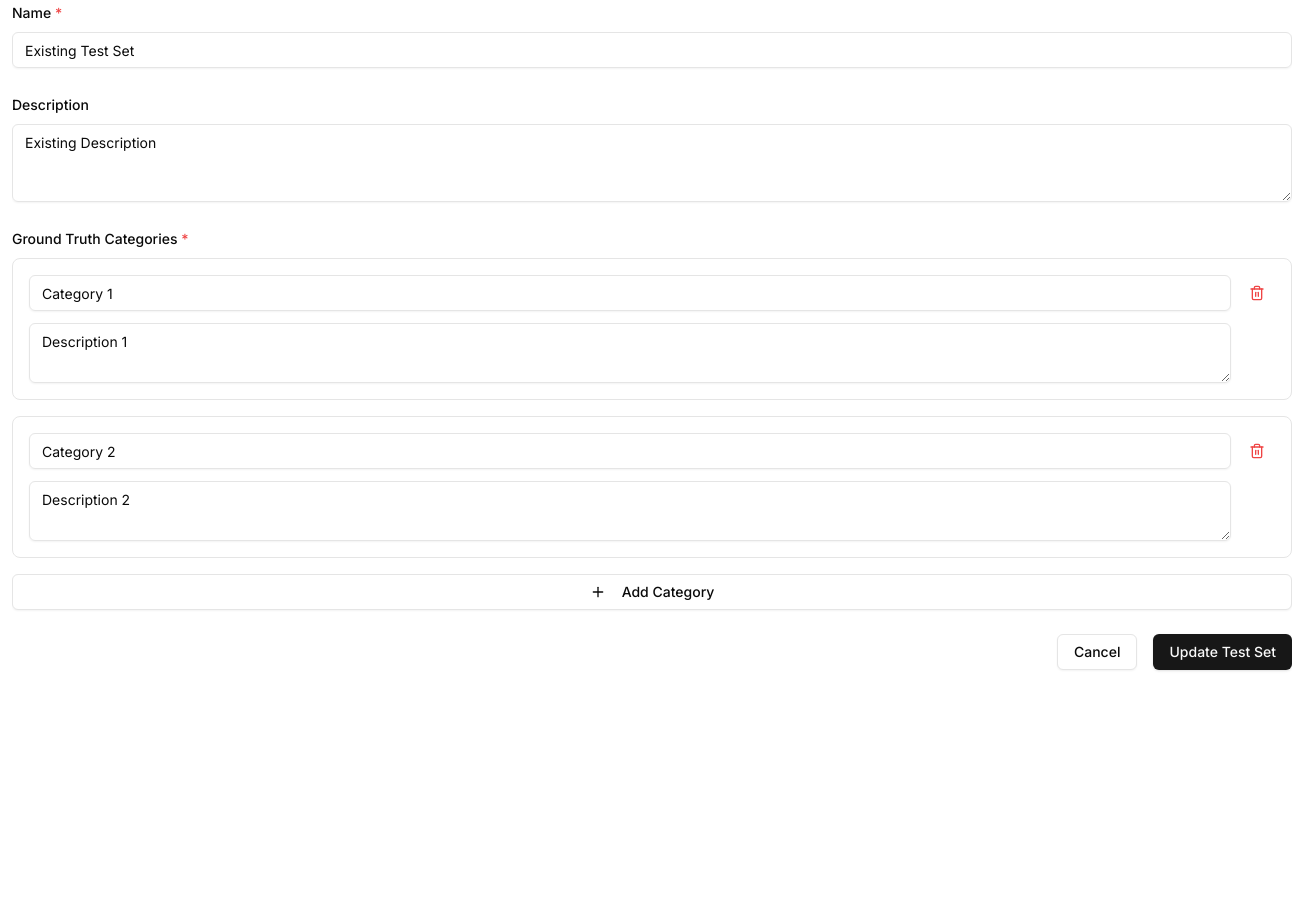
Test: TestSetForm - Edit Mode › validates form on submission in edit mode
The image size is (1304, 900).
Clear the field with placeholder "Enter test set name": (652, 50) [12, 32, 1292, 68]
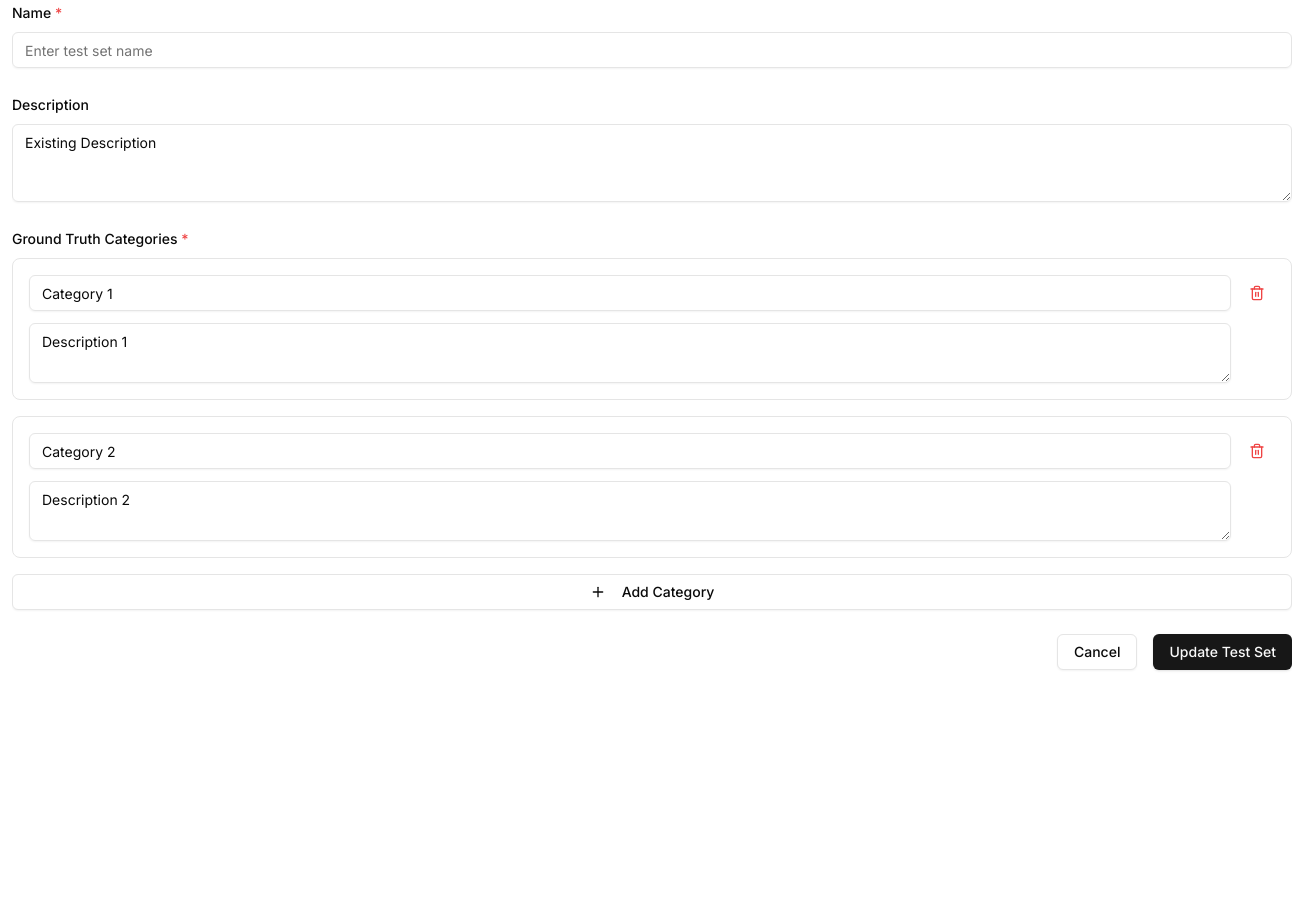
Click the button "Update Test Set": (1223, 652) [1154, 634, 1292, 670]
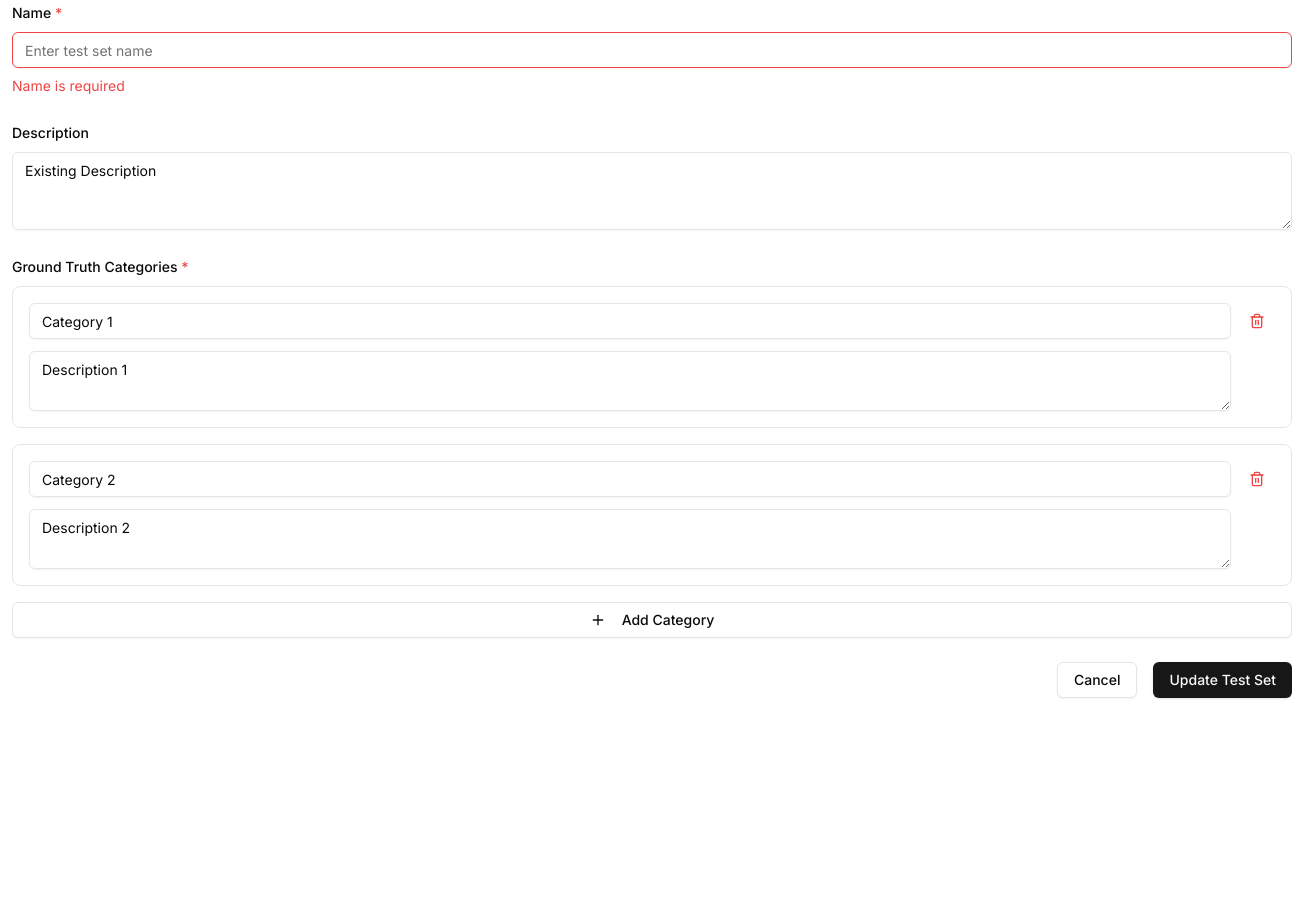
Result: the text "Name is required" is shown at [12, 77, 125, 94]
